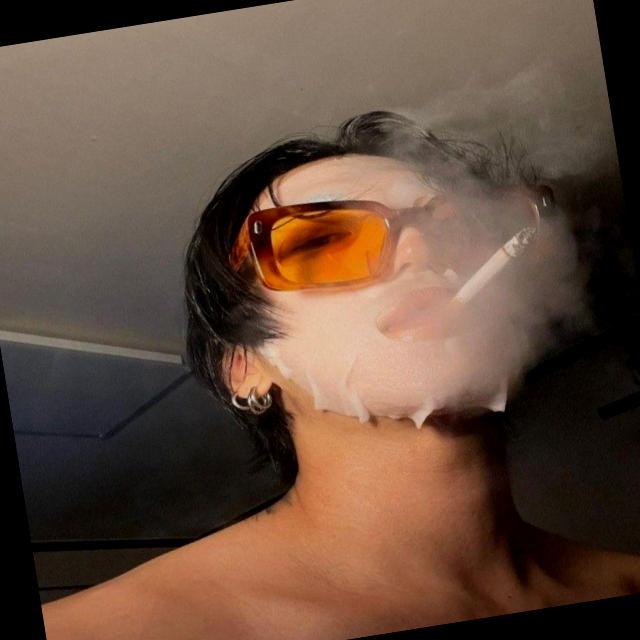smoke: (434, 215, 544, 328)
